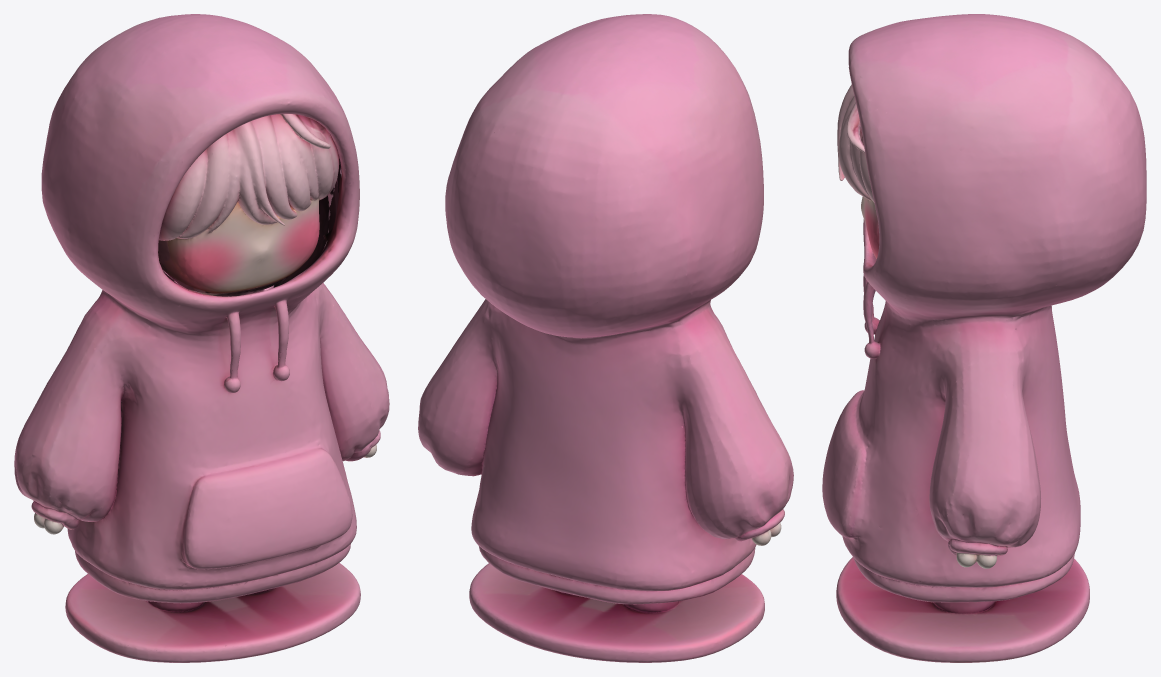
Rendered from Blushy.glb.
3 views of the same model, side by side, from view 1: azimuth 30°, elevation 25°; view 2: azimuth 150°, elevation 25°; view 3: azimuth 270°, elevation 25° (orthographic).
Size of the model in its own units: 1.25 by 1.9 by 0.9709.
Materials: 1 (1 with a texture image).
